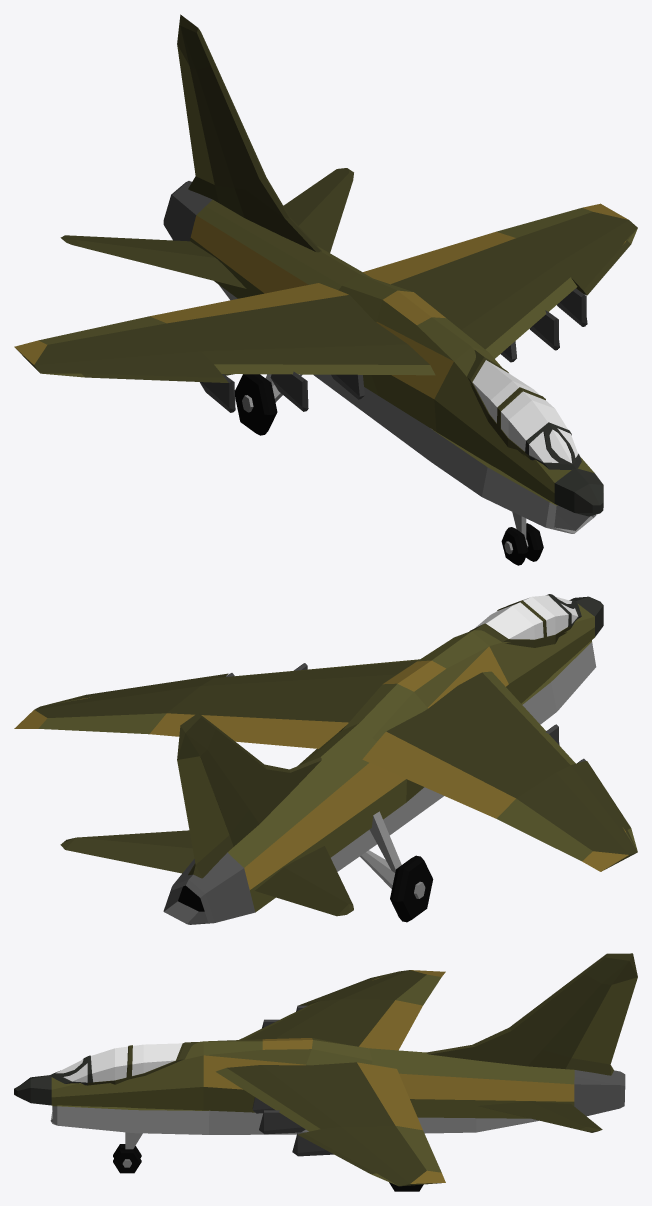
3 renders of one model, top to bottom at view 1: azimuth 30°, elevation 25°; view 2: azimuth 150°, elevation 25°; view 3: azimuth 270°, elevation 25°, orthographic. The views are drawn at different scales.
Visible parts, largest first — view 1: Plane, Cylinder, Plane.002, Cylinder.001, Plane.001, Cylinder.002, Plane.004, Cube, Cylinder.004, Plane.005, Plane.003, Cylinder.003; view 2: Plane, Cylinder, Plane.004, Plane.002, Plane.001, Cylinder.001, Plane.005, Cylinder.002, Cylinder.004, Plane.003; view 3: Cylinder, Plane, Plane.002, Cylinder.001, Plane.004, Cylinder.002, Plane.003, Plane.001, Cube, Plane.005, Cylinder.003.
Part boxes in pixels (bbox=[...]): Plane: bbox=[14, 203, 637, 382]; Cylinder: bbox=[163, 181, 603, 516]; Plane.002: bbox=[177, 14, 321, 252]; Cylinder.001: bbox=[219, 285, 596, 533]; Plane.001: bbox=[60, 168, 353, 288]; Cylinder.002: bbox=[467, 350, 581, 469]; Plane.004: bbox=[150, 231, 515, 323]; Cube: bbox=[200, 288, 587, 412]; Cylinder.004: bbox=[235, 374, 302, 435]; Plane.005: bbox=[38, 208, 592, 344]; Plane.003: bbox=[177, 44, 214, 184]; Cylinder.003: bbox=[501, 512, 543, 565]; Plane: bbox=[14, 659, 637, 871]; Cylinder: bbox=[163, 596, 603, 924]; Plane.004: bbox=[149, 713, 515, 818]; Plane.002: bbox=[177, 713, 321, 878]; Plane.001: bbox=[60, 830, 353, 916]; Cylinder.001: bbox=[331, 640, 596, 871]; Plane.005: bbox=[38, 713, 592, 861]; Cylinder.002: bbox=[469, 594, 581, 647]; Cylinder.004: bbox=[360, 811, 433, 922]; Plane.003: bbox=[177, 756, 229, 864]; Cylinder: bbox=[14, 1038, 625, 1118]; Plane: bbox=[216, 970, 445, 1186]; Plane.002: bbox=[426, 953, 637, 1075]; Cylinder.001: bbox=[50, 1105, 538, 1134]; Plane.004: bbox=[357, 1000, 422, 1130]; Cylinder.002: bbox=[50, 1042, 198, 1085]; Plane.003: bbox=[572, 977, 637, 1064]; Plane.001: bbox=[478, 1101, 602, 1132]; Cube: bbox=[252, 1005, 333, 1156]; Plane.005: bbox=[396, 974, 441, 1172]; Cylinder.003: bbox=[113, 1132, 142, 1173].
Bounding box in the file's own units: 1.94 × 0.9106 × 2.38.
